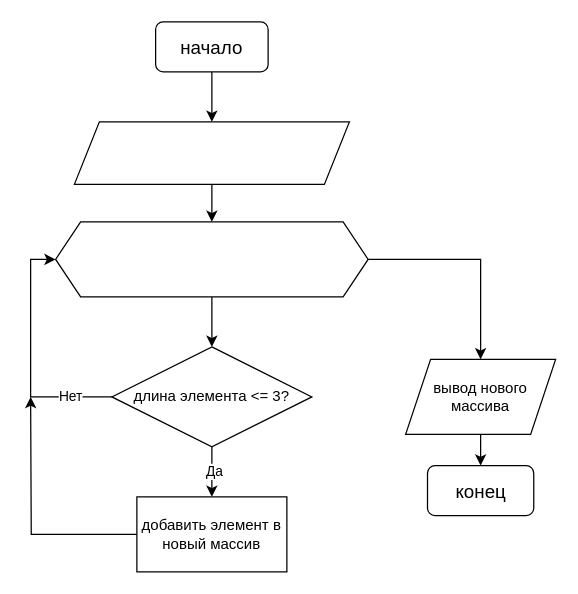
Image size: 578x594. Some labels were removed from this diagram. Each missing label, with the centre of its shape:
ввод исходного массива строк создание нового пустого массива: the point at 211,152
для каждого элемента в исходном массиве: the point at 211,259
